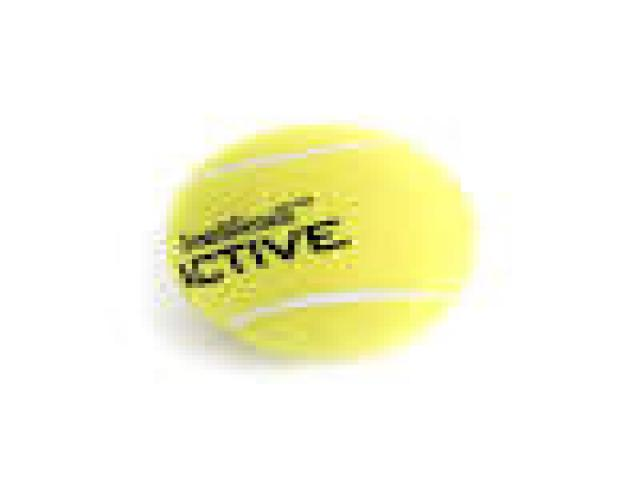tennis-ball: (164, 124, 474, 360)
